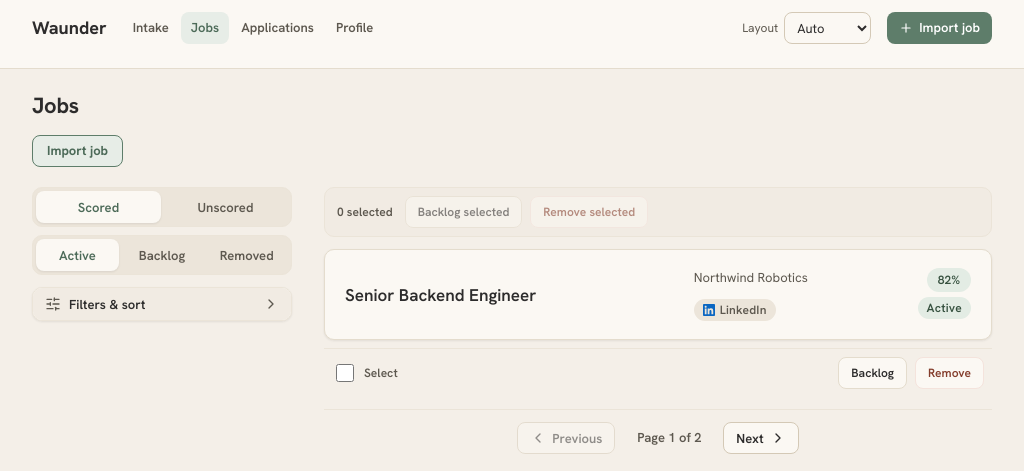
Test case: pagination › advances to the next page and asks Rails for it
Expected: the list is shown, [324,250,992,389]
Click the button "Next" at (761, 438), box [723,422,799,454]
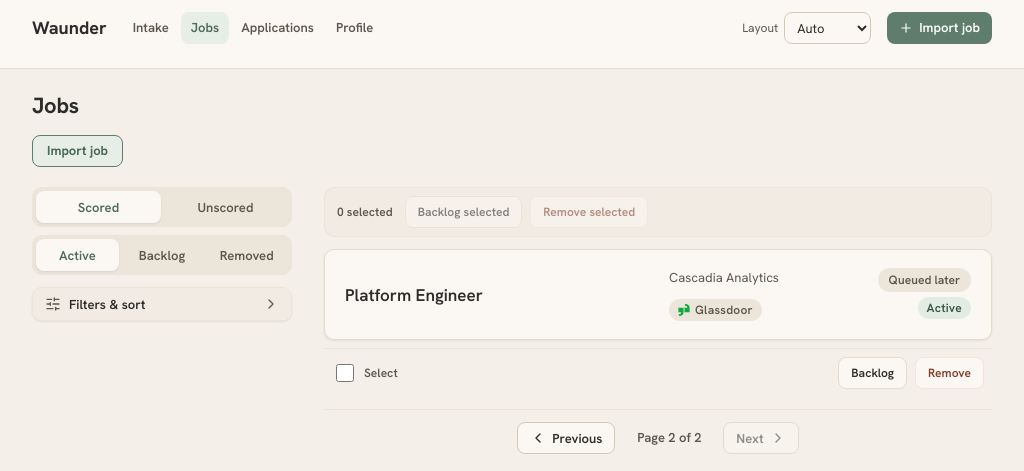
Now the text "Page 2 of 2" is shown, box [637,429,702,446]
Now the button "Next" is disabled, box [723,422,799,454]
